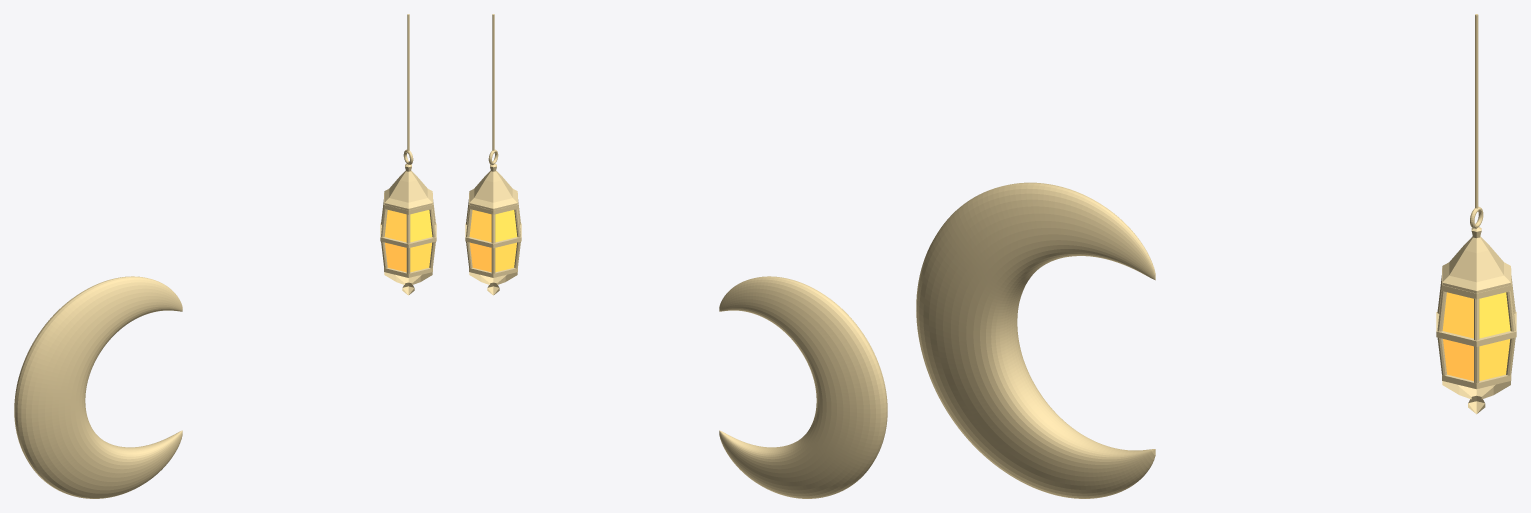
Rendered from ramazan.glb.
3 renders of one model, left to right at view 1: azimuth 30°, elevation 25°; view 2: azimuth 150°, elevation 25°; view 3: azimuth 330°, elevation 25°, orthographic. The views are drawn at different scales.
Visible parts, largest first — view 1: crescent, lantern_r; view 2: crescent, lantern_r; view 3: crescent, lantern_r.
Boxes of the visible parts, box(x1,y1,x2,y2) form: crescent: box(14, 276, 182, 498); lantern_r: box(380, 14, 436, 295); crescent: box(719, 276, 887, 498); lantern_r: box(465, 14, 521, 295); crescent: box(916, 182, 1155, 498); lantern_r: box(1436, 14, 1516, 414).
Bounding box in the file's own units: 3.84 × 3.57 × 0.4458.
